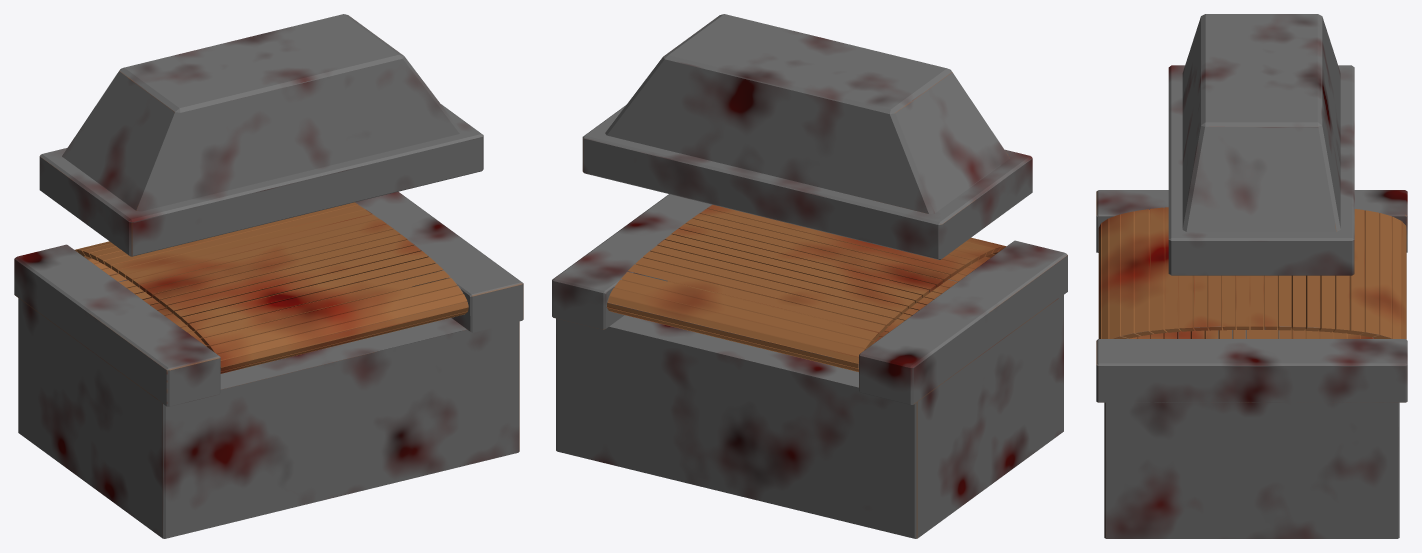
The model's file is Server.fbx.
3 views of the same model, side by side, from view 1: azimuth 30°, elevation 25°; view 2: azimuth 150°, elevation 25°; view 3: azimuth 270°, elevation 25° (orthographic).
Visible parts, largest first — view 1: BézierCircle; view 2: BézierCircle; view 3: BézierCircle.
Boxes of the visible parts, x1,y1,x2,y2 form: BézierCircle: (14,14,523,538); BézierCircle: (552,14,1067,538); BézierCircle: (1096,14,1407,538).
Bounding box in the file's own units: 3.89 × 3.93 × 2.89.
1 material, 1 textured.
